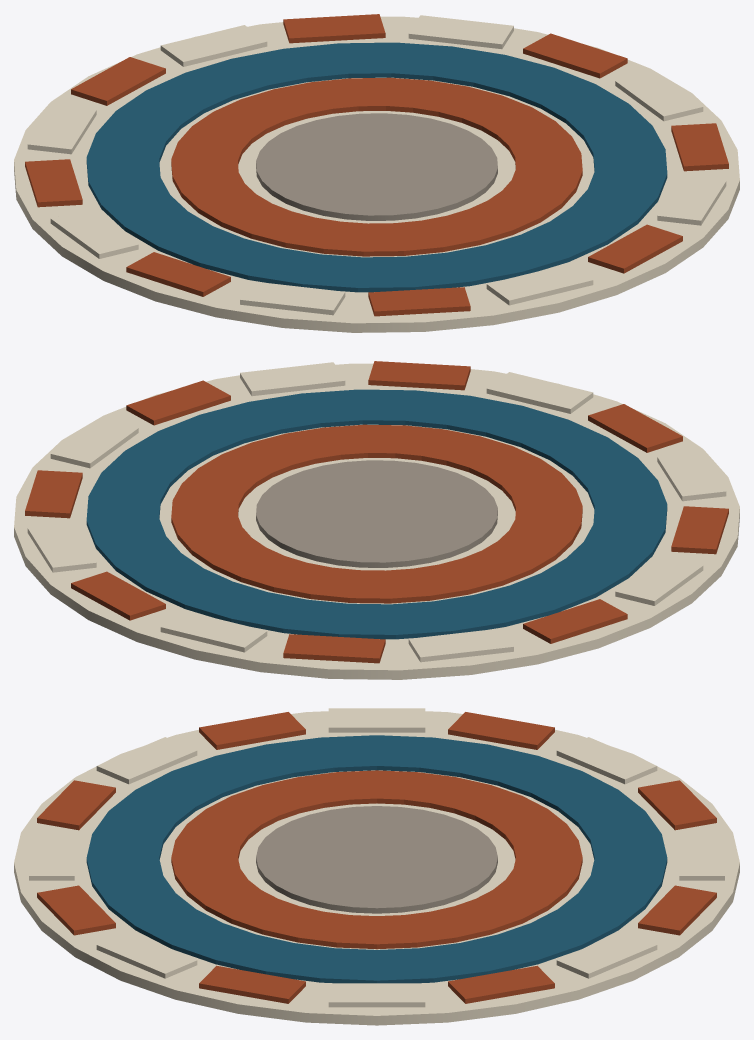
The model's file is decor_mosaic_roundel_LOD0.glb.
3 views of the same model, one above another, from view 1: azimuth 30°, elevation 25°; view 2: azimuth 150°, elevation 25°; view 3: azimuth 270°, elevation 25° (orthographic).
Visible parts, largest first — view 1: decor_mosaic_roundel_LOD0; view 2: decor_mosaic_roundel_LOD0; view 3: decor_mosaic_roundel_LOD0.
Part boxes in pixels (left/top/right/bottom): decor_mosaic_roundel_LOD0: left=14, top=14, right=739, bottom=332; decor_mosaic_roundel_LOD0: left=14, top=361, right=739, bottom=679; decor_mosaic_roundel_LOD0: left=14, top=708, right=739, bottom=1025.
Size of the model in its own units: 2.4 by 0.061 by 2.4.
